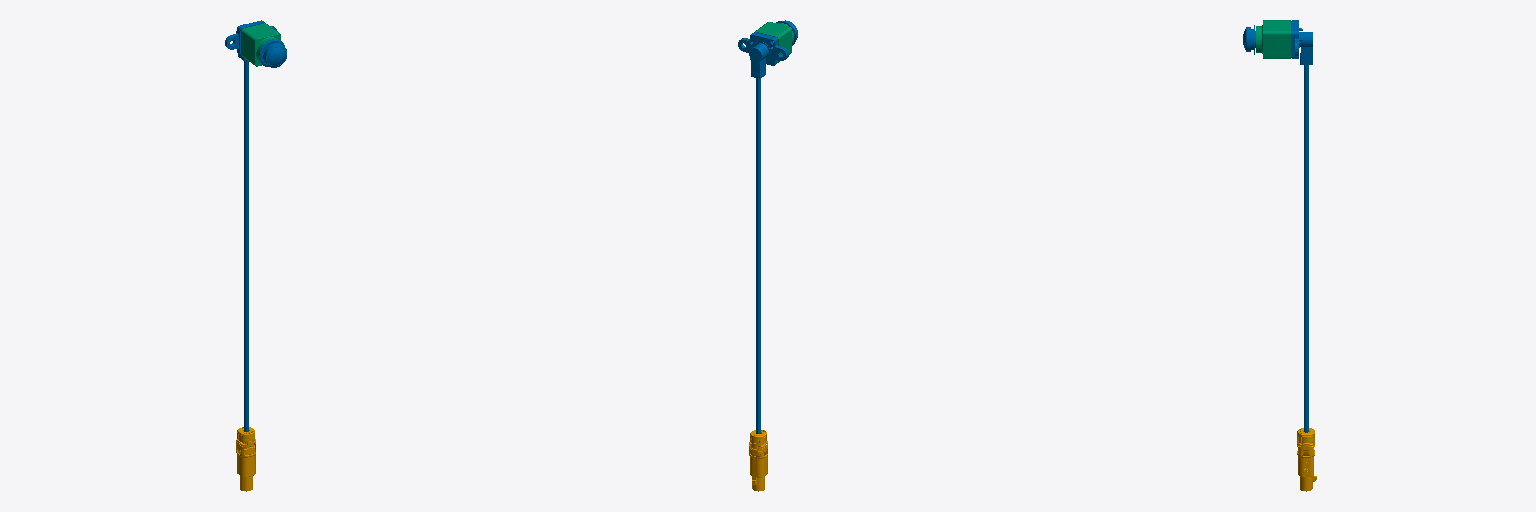
robot.urdf — M3A:
<?xml version="1.0"?>
<!-- Generated by usd2urdf.py from M3A.usd -->
<!-- metersPerUnit=0.01 upAxis=Z -->
<robot name="M3A">
  <link name="base_link">
  </link>
  <link name="Root">
  </link>
  <link name="m3a">
  </link>
  <link name="Lens">
  </link>
  <link name="Mesh">
    <visual>
      <origin xyz="0 0 0" rpy="0 0 0"/>
      <geometry>
        <mesh filename="meshes/Mesh.stl"/>
      </geometry>
    </visual>
    <collision>
      <origin xyz="0 0 0" rpy="0 0 0"/>
      <geometry>
        <mesh filename="meshes/Mesh.stl"/>
      </geometry>
    </collision>
    <inertial>
      <origin xyz="0 0 0" rpy="0 0 0"/>
      <mass value="0.15"/>
      <inertia ixx="0.000590670265" ixy="0" ixz="0" iyy="0.000590670265" iyz="0" izz="0.000722500142"/>
    </inertial>
  </link>
  <link name="m3a_1">
  </link>
  <link name="m3a_1_optical">
  </link>
  <link name="Fakra">
  </link>
  <link name="Mesh_1">
    <visual>
      <origin xyz="0 0 0" rpy="0 0 0"/>
      <geometry>
        <mesh filename="meshes/Mesh_1.stl"/>
      </geometry>
    </visual>
    <collision>
      <origin xyz="0 0 0" rpy="0 0 0"/>
      <geometry>
        <mesh filename="meshes/Mesh_1.stl"/>
      </geometry>
    </collision>
    <inertial>
      <origin xyz="0 0 0" rpy="0 0 0"/>
      <mass value="0.15"/>
      <inertia ixx="0.00178125051" ixy="0" ixz="0" iyy="0.00174970911" iyz="0" izz="0.000289097634"/>
    </inertial>
  </link>
  <link name="Top">
  </link>
  <link name="Mesh_2">
    <visual>
      <origin xyz="0 0 0" rpy="0 0 0"/>
      <geometry>
        <mesh filename="meshes/Mesh_2.stl"/>
      </geometry>
    </visual>
    <collision>
      <origin xyz="0 0 0" rpy="0 0 0"/>
      <geometry>
        <mesh filename="meshes/Mesh_2.stl"/>
      </geometry>
    </collision>
    <inertial>
      <origin xyz="0 0 0" rpy="0 0 0"/>
      <mass value="0.15"/>
      <inertia ixx="0.00085875318" ixy="0" ixz="0" iyy="0.000722500015" iyz="0" izz="0.00085875318"/>
    </inertial>
  </link>
  <link name="Bottom">
  </link>
  <link name="Mesh_3">
    <visual>
      <origin xyz="0 0 0" rpy="0 0 0"/>
      <geometry>
        <mesh filename="meshes/Mesh_3.stl"/>
      </geometry>
    </visual>
    <collision>
      <origin xyz="0 0 0" rpy="0 0 0"/>
      <geometry>
        <mesh filename="meshes/Mesh_3.stl"/>
      </geometry>
    </collision>
    <inertial>
      <origin xyz="0 0 0" rpy="0 0 0"/>
      <mass value="0.15"/>
      <inertia ixx="0.0818715329" ixy="0" ixz="0" iyy="0.0829615669" iyz="0" izz="0.0016324662"/>
    </inertial>
  </link>
  <link name="Screw1">
  </link>
  <link name="Mesh_4">
    <visual>
      <origin xyz="0 0 0" rpy="0 0 0"/>
      <geometry>
        <mesh filename="meshes/Mesh_4.stl"/>
      </geometry>
    </visual>
    <collision>
      <origin xyz="0 0 0" rpy="0 0 0"/>
      <geometry>
        <mesh filename="meshes/Mesh_4.stl"/>
      </geometry>
    </collision>
    <inertial>
      <origin xyz="0 0 0" rpy="0 0 0"/>
      <mass value="0.15"/>
      <inertia ixx="4.98625032e-05" ixy="0" ixz="0" iyy="1.56250005e-05" iyz="0" izz="4.98625032e-05"/>
    </inertial>
  </link>
  <link name="Screw0">
  </link>
  <link name="Mesh_5">
    <visual>
      <origin xyz="0 0 0" rpy="0 0 0"/>
      <geometry>
        <mesh filename="meshes/Mesh_5.stl"/>
      </geometry>
    </visual>
    <collision>
      <origin xyz="0 0 0" rpy="0 0 0"/>
      <geometry>
        <mesh filename="meshes/Mesh_5.stl"/>
      </geometry>
    </collision>
    <inertial>
      <origin xyz="0 0 0" rpy="0 0 0"/>
      <mass value="0.15"/>
      <inertia ixx="4.98625032e-05" ixy="0" ixz="0" iyy="1.56250005e-05" iyz="0" izz="4.98625032e-05"/>
    </inertial>
  </link>
  <joint name="base_link_to_Root" type="fixed">
    <parent link="base_link"/>
    <child link="Root"/>
    <origin xyz="0 0 0" rpy="0 0 0"/>
  </joint>
  <joint name="Root_to_m3a" type="fixed">
    <parent link="Root"/>
    <child link="m3a"/>
    <origin xyz="0 0 0" rpy="0 0 0"/>
  </joint>
  <joint name="m3a_to_Lens" type="fixed">
    <parent link="m3a"/>
    <child link="Lens"/>
    <origin xyz="0 -0.129425524 0" rpy="-1.57079633 -1.57078841 7.01376734e-11"/>
  </joint>
  <joint name="Lens_to_Mesh" type="fixed">
    <parent link="Lens"/>
    <child link="Mesh"/>
    <origin xyz="0 0 0.0697377548" rpy="0 0 0"/>
  </joint>
  <joint name="Mesh_to_m3a_1" type="fixed">
    <parent link="Mesh"/>
    <child link="m3a_1"/>
    <origin xyz="0 0 -0.127247695" rpy="0 0 -1.57079633"/>
  </joint>
  <joint name="m3a_1_optical_joint" type="fixed">
    <parent link="m3a_1"/>
    <child link="m3a_1_optical"/>
    <origin xyz="0 0 0" rpy="3.14159265 0 0"/>
  </joint>
  <joint name="m3a_to_Fakra" type="fixed">
    <parent link="m3a"/>
    <child link="Fakra"/>
    <origin xyz="-2.68887234e-12 0.231993135 -2.7155" rpy="3.14159265 0 3.14159265"/>
  </joint>
  <joint name="Fakra_to_Mesh_1" type="fixed">
    <parent link="Fakra"/>
    <child link="Mesh_1"/>
    <origin xyz="0 0.00587500095 -0.0894482946" rpy="0 0 0"/>
  </joint>
  <joint name="m3a_to_Top" type="fixed">
    <parent link="m3a"/>
    <child link="Top"/>
    <origin xyz="0 0 0" rpy="0 0 0"/>
  </joint>
  <joint name="Top_to_Mesh_2" type="fixed">
    <parent link="Top"/>
    <child link="Mesh_2"/>
    <origin xyz="0 0.0467499971 0" rpy="0 0 0"/>
  </joint>
  <joint name="m3a_to_Bottom" type="fixed">
    <parent link="m3a"/>
    <child link="Bottom"/>
    <origin xyz="9.59711754e-06 0.271343135 -3.13906482e-05" rpy="0 0 0"/>
  </joint>
  <joint name="Bottom_to_Mesh_3" type="fixed">
    <parent link="Bottom"/>
    <child link="Mesh_3"/>
    <origin xyz="-9.59396362e-06 -0.0749999989 -1.19246859" rpy="0 0 0"/>
  </joint>
  <joint name="m3a_to_Screw1" type="fixed">
    <parent link="m3a"/>
    <child link="Screw1"/>
    <origin xyz="-0.067 0.179493135 0.067" rpy="0 0 0"/>
  </joint>
  <joint name="Screw1_to_Mesh_4" type="fixed">
    <parent link="Screw1"/>
    <child link="Mesh_4"/>
    <origin xyz="0 -0.0209999999 0" rpy="0 0 0"/>
  </joint>
  <joint name="m3a_to_Screw0" type="fixed">
    <parent link="m3a"/>
    <child link="Screw0"/>
    <origin xyz="0.067 0.179493135 -0.067" rpy="0 0 0"/>
  </joint>
  <joint name="Screw0_to_Mesh_5" type="fixed">
    <parent link="Screw0"/>
    <child link="Mesh_5"/>
    <origin xyz="0 -0.0209999999 0" rpy="0 0 0"/>
  </joint>
</robot>

--- Render facts (derived) ---
Views: 3 orthographic renders of the robot side by side, from view 1: azimuth 30°, elevation 25°; view 2: azimuth 150°, elevation 25°; view 3: azimuth 270°, elevation 25°.
Model M3A with 17 links and 16 joints (16 fixed), rooted at base_link, posed every joint at zero.
Links seen in each view (by area): view 1: Mesh_3, Mesh_1, Mesh_2, Mesh; view 2: Mesh_3, Mesh_1, Mesh_2; view 3: Mesh_3, Mesh_2, Mesh_1.
Boxes of the visible links, x1,y1,x2,y2 form: Mesh_3: (225, 20, 277, 431); Mesh_1: (236, 427, 255, 491); Mesh_2: (241, 23, 280, 66); Mesh: (259, 39, 286, 67); Mesh_3: (738, 32, 788, 433); Mesh_1: (749, 430, 767, 491); Mesh_2: (755, 22, 793, 62); Mesh_3: (1291, 20, 1312, 432); Mesh_2: (1256, 20, 1290, 58); Mesh_1: (1297, 428, 1316, 491).
Bounding box of the posed robot: 0.33 × 0.4219 × 2.89 m (x, y, z).
5 mesh visuals loaded from 6 distinct referenced files (5 binary STL); not drawn: 1 (reference not matched to a file when rendering).
